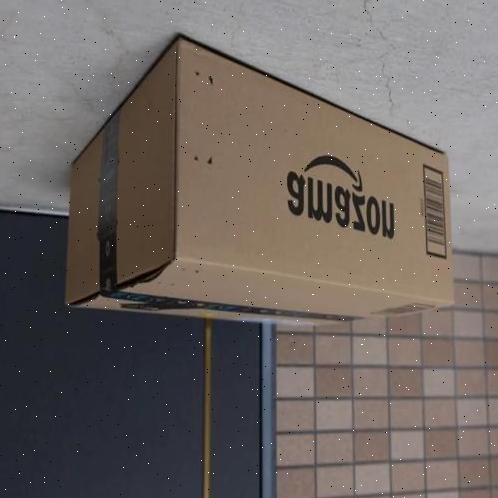Amazon: (67, 38, 459, 330)
